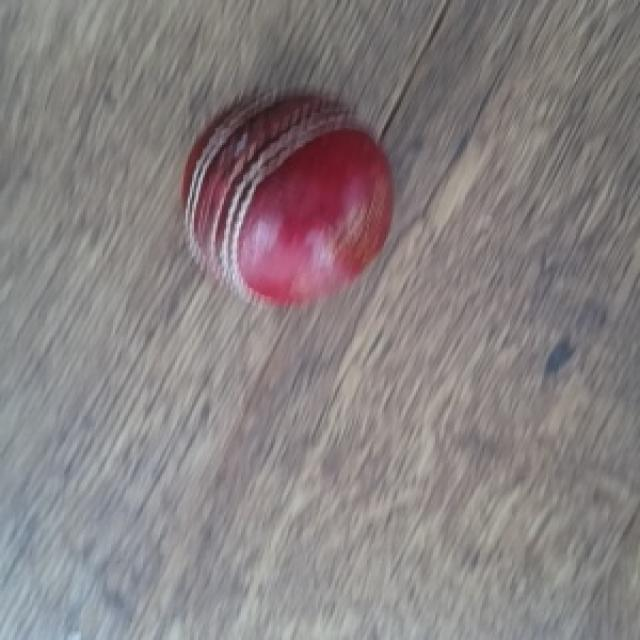ball: (172, 96, 393, 313)
